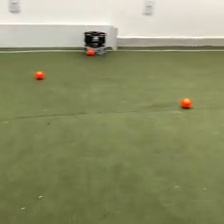ball: (180, 95, 192, 108), (35, 69, 44, 80), (86, 47, 95, 56)
goal: (1, 21, 119, 51)
robot: (83, 29, 108, 54)
